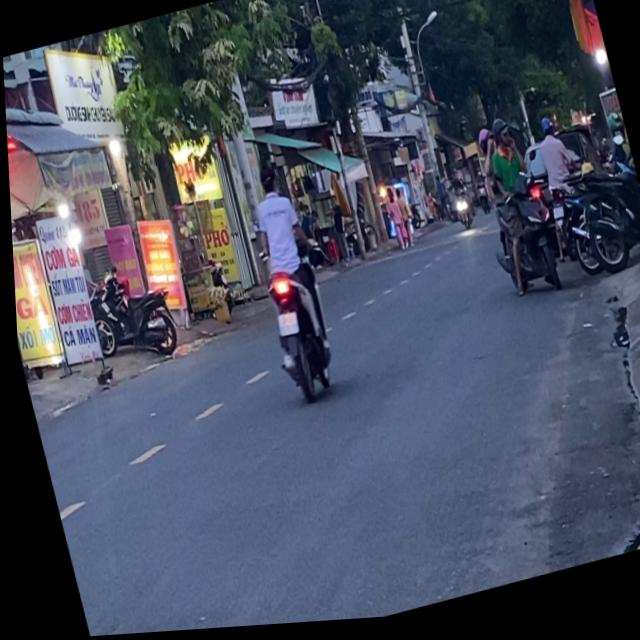helmet: (470, 129, 497, 171), (486, 121, 511, 159)
licenseplate: (229, 154, 341, 409), (462, 113, 564, 310)
motorcyclist: (250, 161, 278, 201)
nohelmet: (270, 313, 295, 340)
